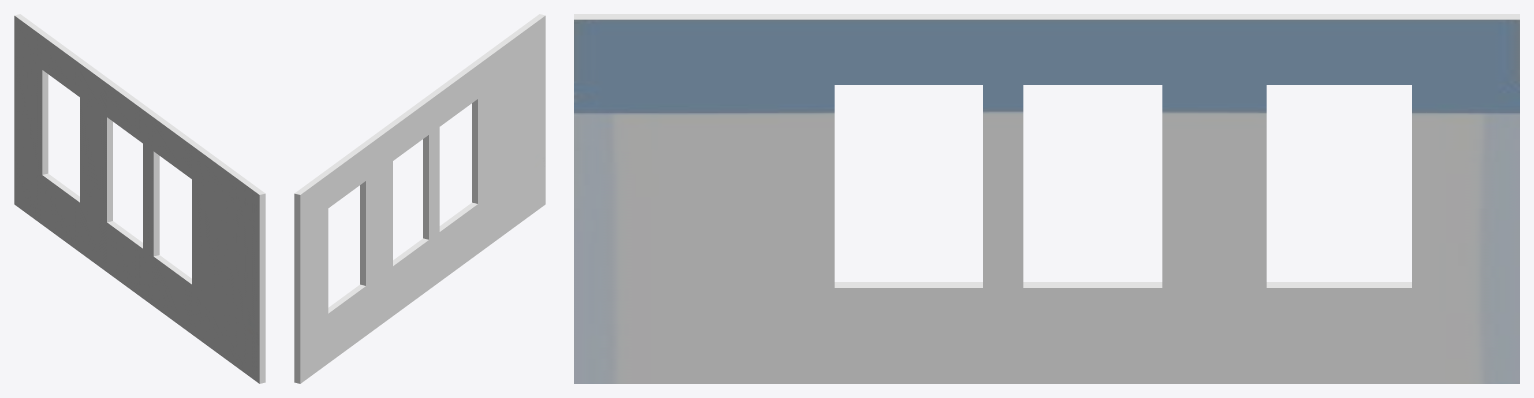
File: cewall.glb
3 renders of one model, left to right at view 1: azimuth 30°, elevation 25°; view 2: azimuth 150°, elevation 25°; view 3: azimuth 270°, elevation 25°, orthographic. The views are drawn at different scales.
Parts seen in each view (by area): view 1: 立方体.227; view 2: 立方体.227; view 3: 立方体.227.
Boxes of the visible parts, <box> form: 立方体.227: <box>14,14,265,383</box>; 立方体.227: <box>294,14,545,383</box>; 立方体.227: <box>574,14,1519,383</box>.
Size of the model in its own units: 0.9073 by 27.14 by 63.86.
Materials: 1 (1 with a texture image).
